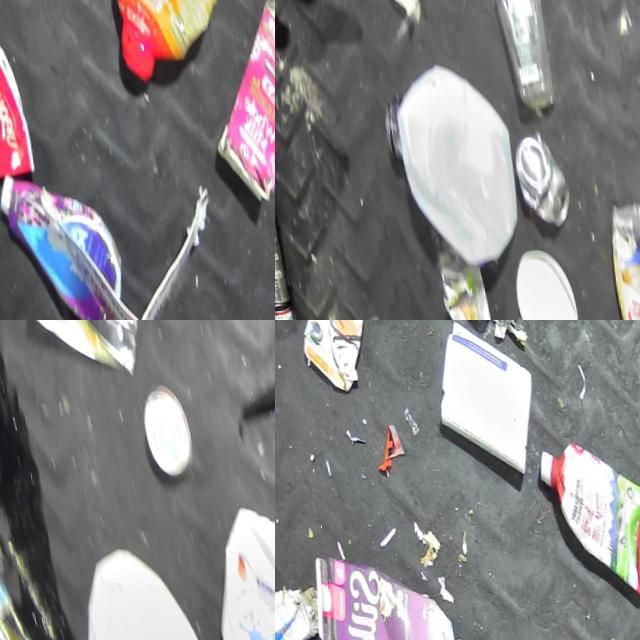can: (0, 320, 151, 381), (502, 123, 567, 227), (129, 381, 190, 481), (372, 89, 403, 161)
milk_jug: (378, 52, 524, 272), (56, 530, 209, 640), (181, 491, 275, 640)
non_white_jug: (182, 0, 275, 202), (529, 428, 640, 596), (297, 544, 455, 640), (87, 0, 226, 80), (286, 320, 380, 394)
plastic_bottle: (480, 0, 555, 112)
